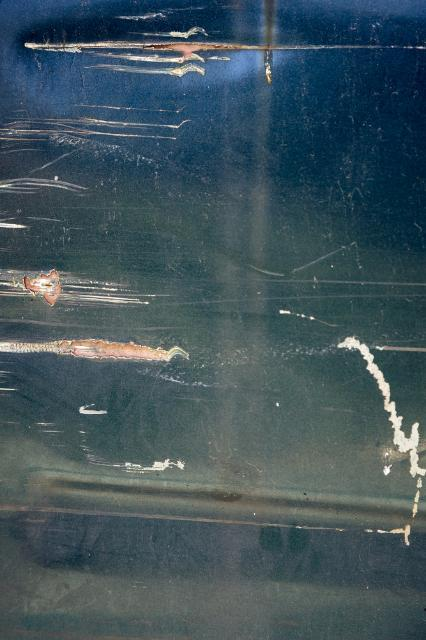scratch: (0, 0, 242, 480), (337, 323, 426, 547)
